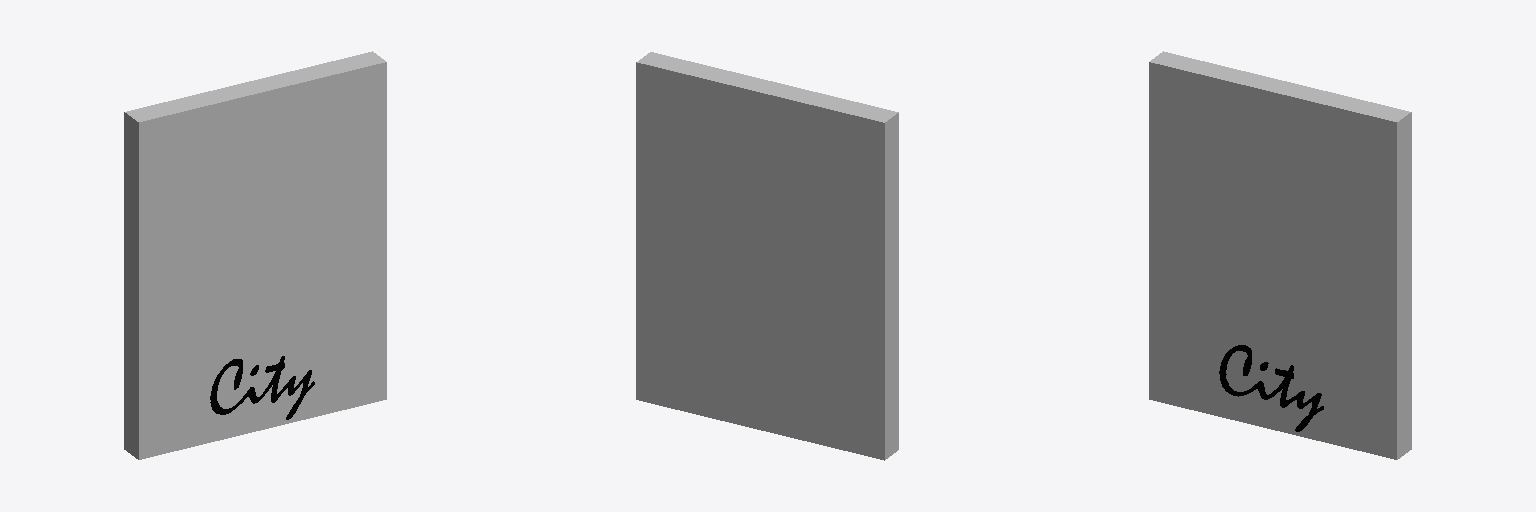
Rendered from polaroid.obj.
3 views of the same model, side by side, from view 1: azimuth 30°, elevation 25°; view 2: azimuth 150°, elevation 25°; view 3: azimuth 330°, elevation 25° (orthographic).
Parts seen in each view (by area): view 1: Screenshot_from_2023-11-30_13-05-59, Cube, Text; view 2: Cube; view 3: Screenshot_from_2023-11-30_13-05-59, Cube, Text.
Part boxes in pixels (bbox=[...]): Screenshot_from_2023-11-30_13-05-59: bbox=[150, 75, 376, 363]; Cube: bbox=[124, 51, 386, 459]; Text: bbox=[210, 356, 314, 419]; Cube: bbox=[636, 52, 898, 460]; Screenshot_from_2023-11-30_13-05-59: bbox=[1160, 75, 1386, 363]; Cube: bbox=[1149, 51, 1411, 459]; Text: bbox=[1219, 345, 1323, 431].
Bounding box in the file's own units: 2 × 2.6 × 0.2071.